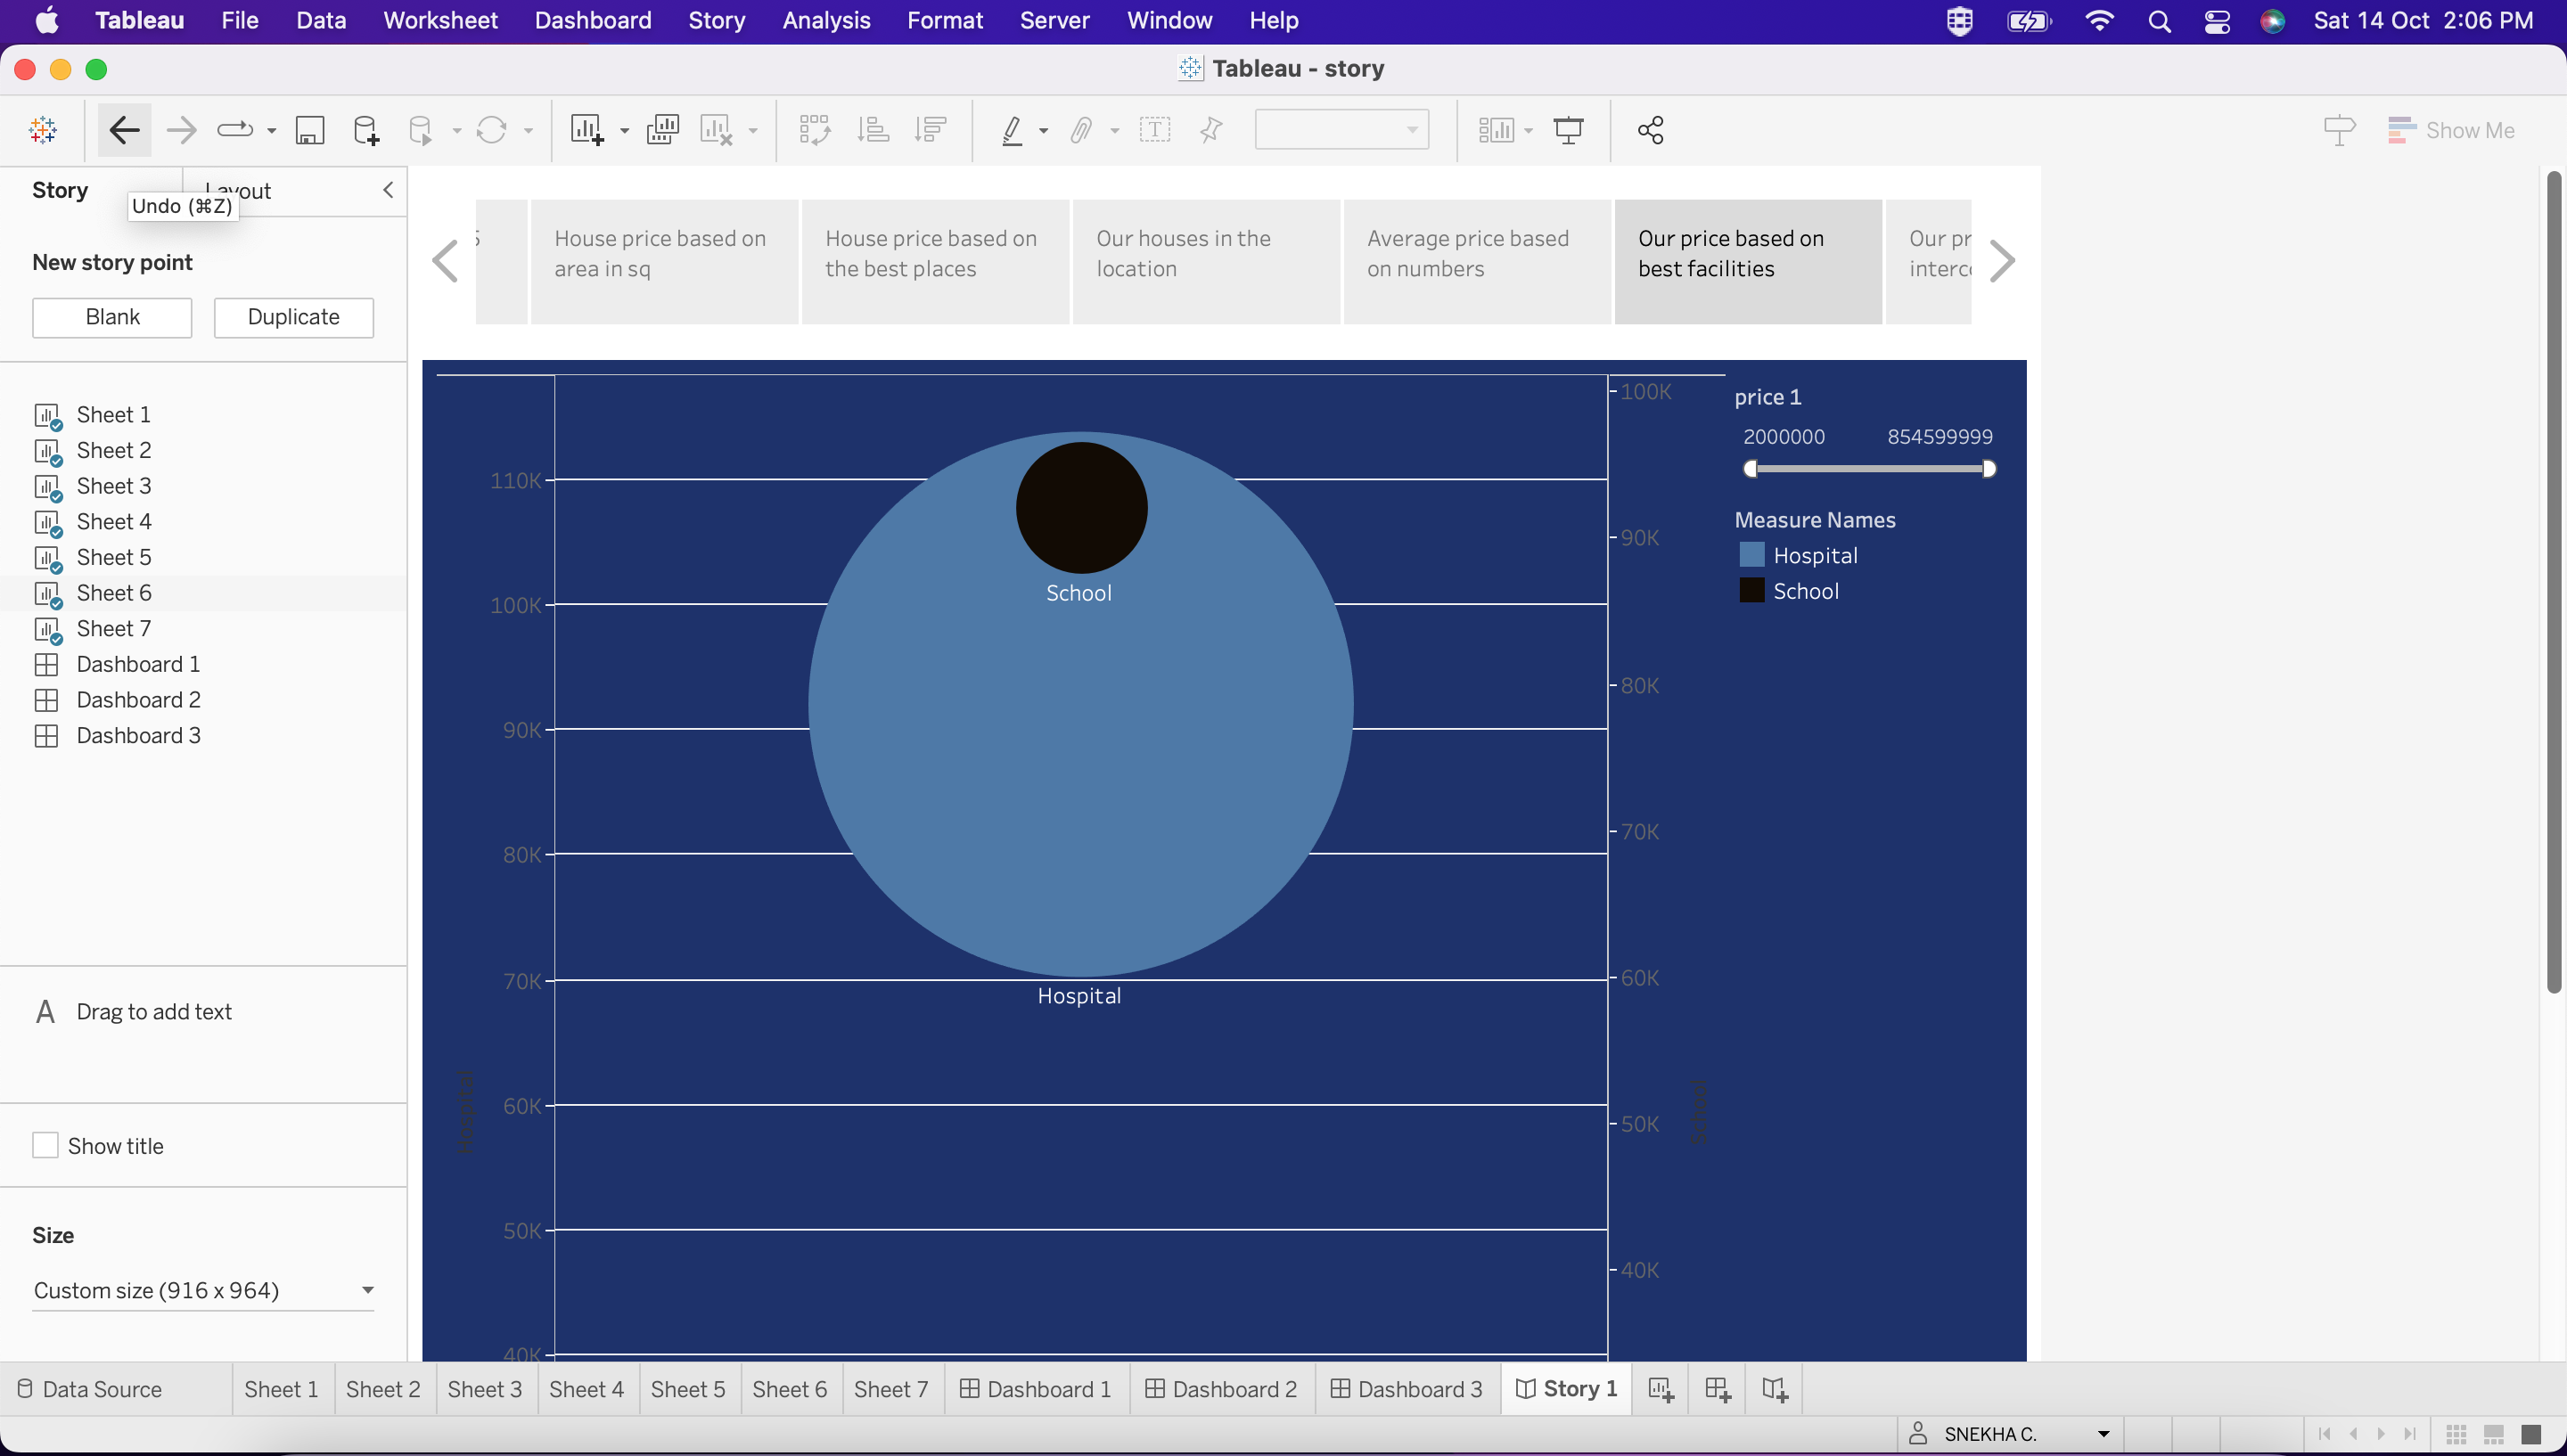

The page's visual inventory and layout, read from the dashboard file:
{"tool":"tableau","page":{"name":"Dashboard 3","canvas":[1000,800],"ordinal":2},"visuals":[{"type":"worksheet","title":"Sheet 5","mark":"Automatic","rows":["Calculation_47428540635820040"],"cols":["Location"],"box":[8,8,457.4,784]},{"type":"worksheet","title":"Sheet 6","mark":"Circle","rows":["Hospital","School"],"box":[465.4,8,526.6,784]},{"type":"dashboard-object","box":[756,614,164,44]}]}

Visuals, with their boxes on the page's 1000x800 design canvas (x1, y1, x2, y2). These are canvas units, not pixel positions in the 2567x1456 screenshot, which may show the page scaled, cropped or inside an application window:
"Sheet 5" worksheet: bbox=(8, 8, 465, 792)
"Sheet 6" worksheet (Circle marks): bbox=(465, 8, 992, 792)
dashboard-object: bbox=(756, 614, 920, 658)
